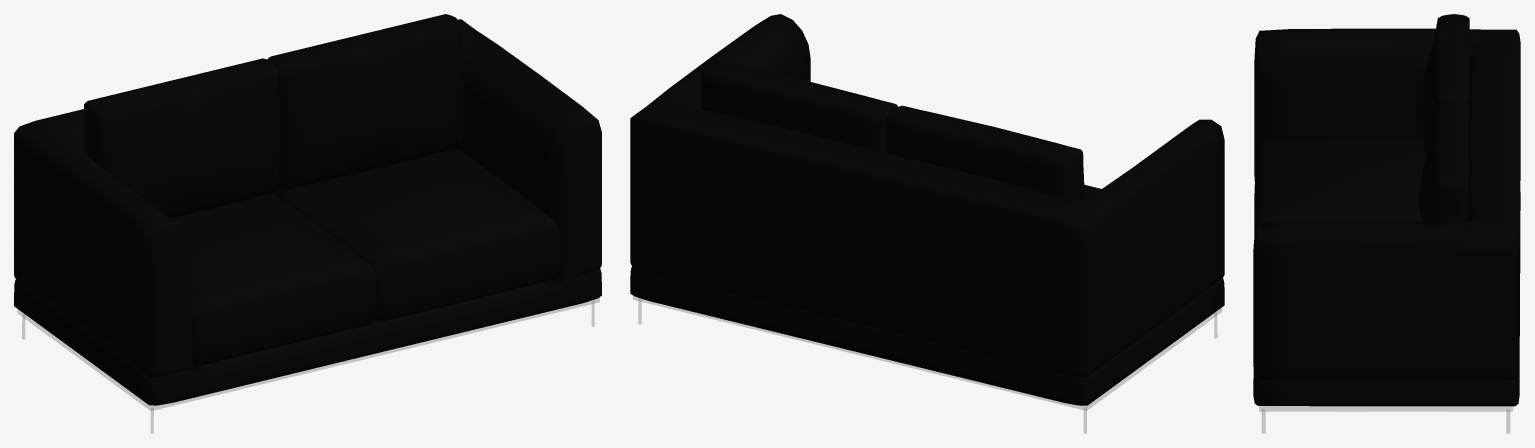
Rendered from arild.glb.
3 views of the same model, side by side, from view 1: azimuth 30°, elevation 25°; view 2: azimuth 150°, elevation 25°; view 3: azimuth 270°, elevation 25° (orthographic). The views are drawn at different scales.
Parts seen in each view (by area): view 1: IKEA-Arild_2_Seat_Sofa-3D; view 2: IKEA-Arild_2_Seat_Sofa-3D; view 3: IKEA-Arild_2_Seat_Sofa-3D.
Part boxes in pixels (x1,y1,x2,y2): IKEA-Arild_2_Seat_Sofa-3D: (14, 14, 601, 433); IKEA-Arild_2_Seat_Sofa-3D: (630, 14, 1224, 433); IKEA-Arild_2_Seat_Sofa-3D: (1253, 14, 1520, 433).
Bounding box in the file's own units: 1.56 × 0.81 × 0.84.
Materials: 2 (2 with a texture image).
